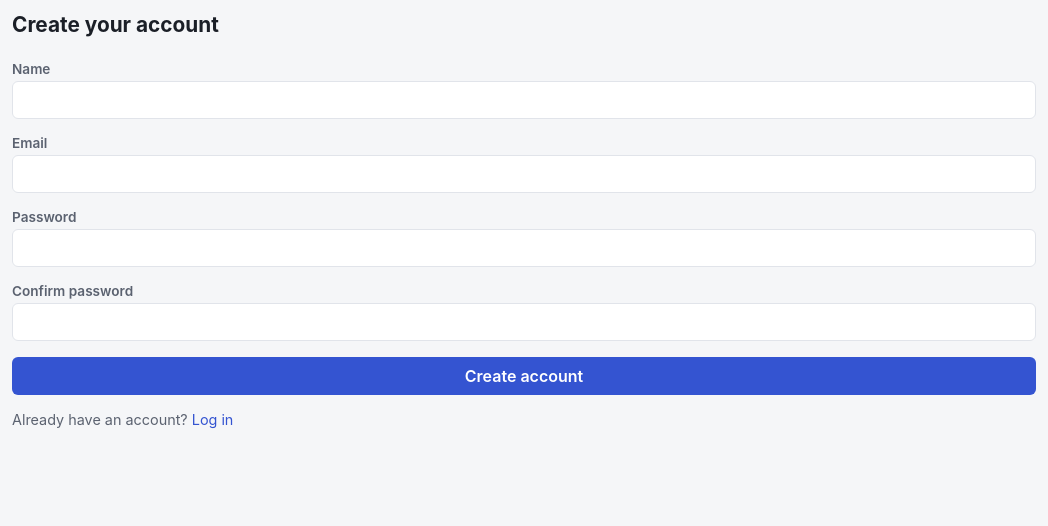
RegisterPage › validates all fields before submitting
Click the button "Create account". click: (524, 376)
box: [12,357,1036,395]
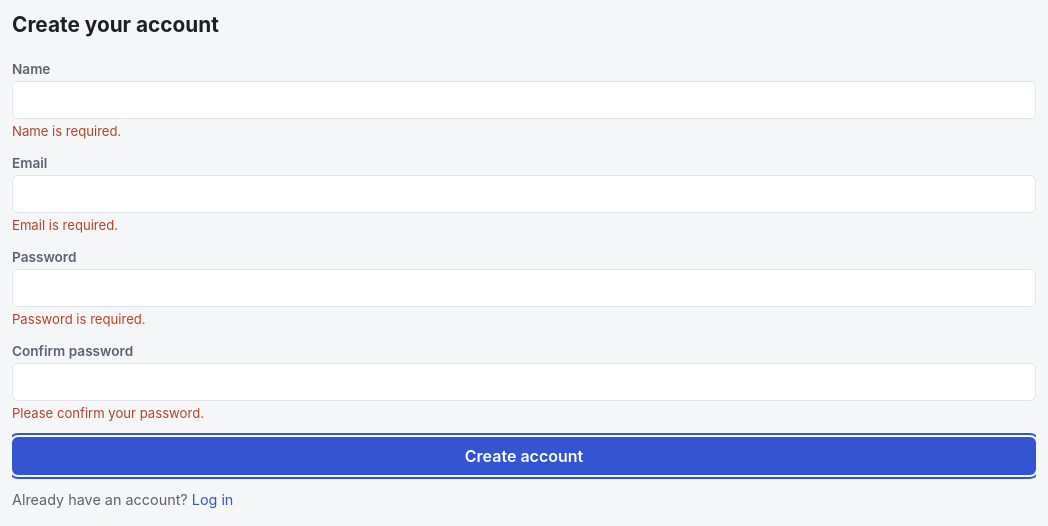
Now the text "Name is required." is shown, box [12,123,121,139]
